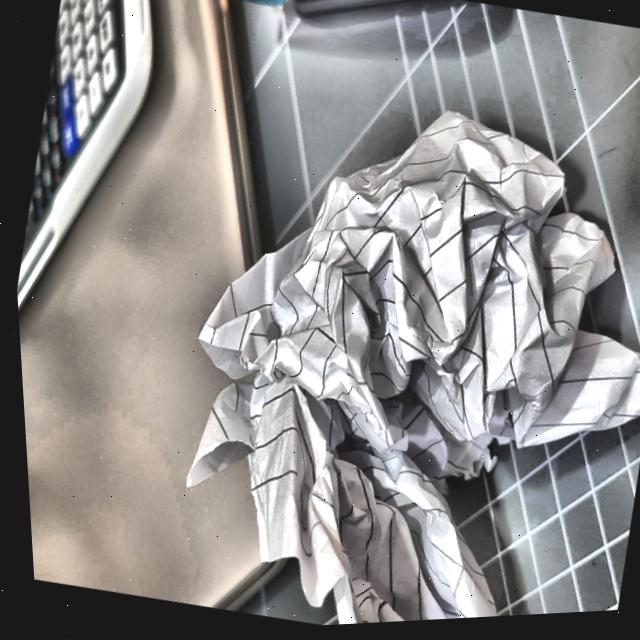paper: (111, 71, 640, 636)
